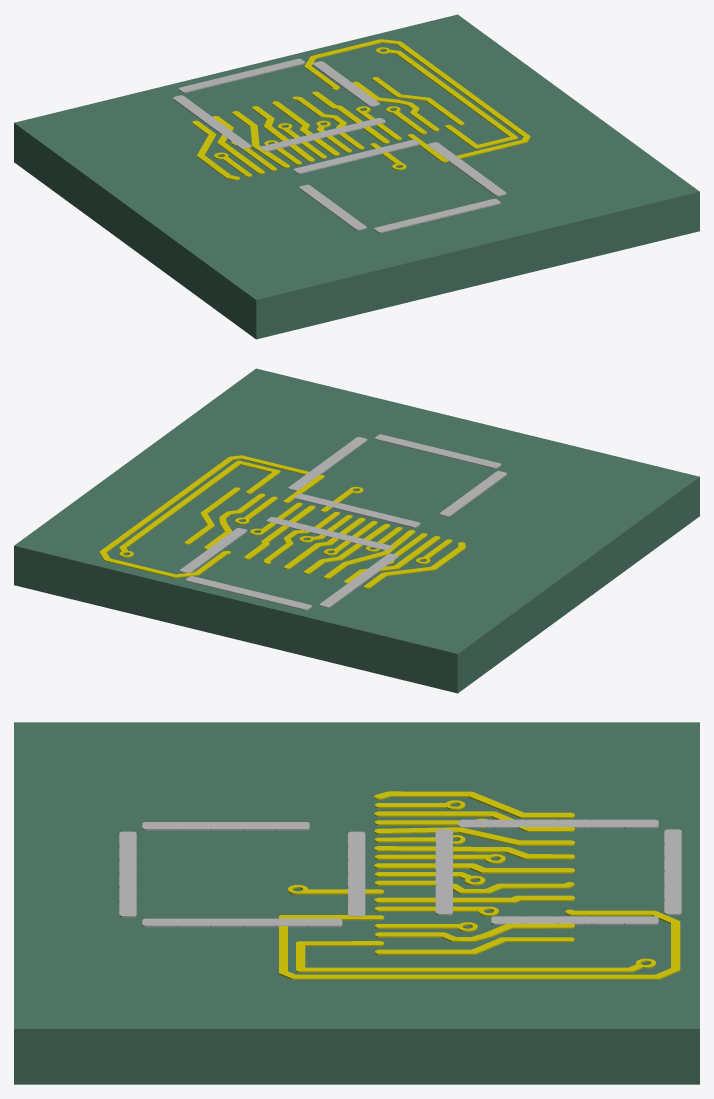
File: pcb_3d_model.glb
The picture shows the model from 3 angles, top to bottom: view 1: azimuth 30°, elevation 25°; view 2: azimuth 150°, elevation 25°; view 3: azimuth 270°, elevation 25°; orthographic projection. The views are drawn at different scales.
Visible parts, largest first — view 1: =>[0:1:1:5], =>[0:1:1:2], =>[0:1:1:3]; view 2: =>[0:1:1:5], =>[0:1:1:2], =>[0:1:1:3]; view 3: =>[0:1:1:5], =>[0:1:1:2], =>[0:1:1:3].
Boxes of the visible parts, x1,y1,x2,y2 form: =>[0:1:1:5]: (14, 14, 699, 339); =>[0:1:1:2]: (192, 39, 530, 180); =>[0:1:1:3]: (173, 58, 506, 233); =>[0:1:1:5]: (14, 368, 699, 693); =>[0:1:1:2]: (99, 455, 465, 588); =>[0:1:1:3]: (180, 434, 506, 610); =>[0:1:1:5]: (14, 722, 699, 1084); =>[0:1:1:2]: (279, 791, 680, 979); =>[0:1:1:3]: (119, 819, 681, 927).
Bounding box in the file's own units: 0.0178 × 0.00159 × 0.0168.
